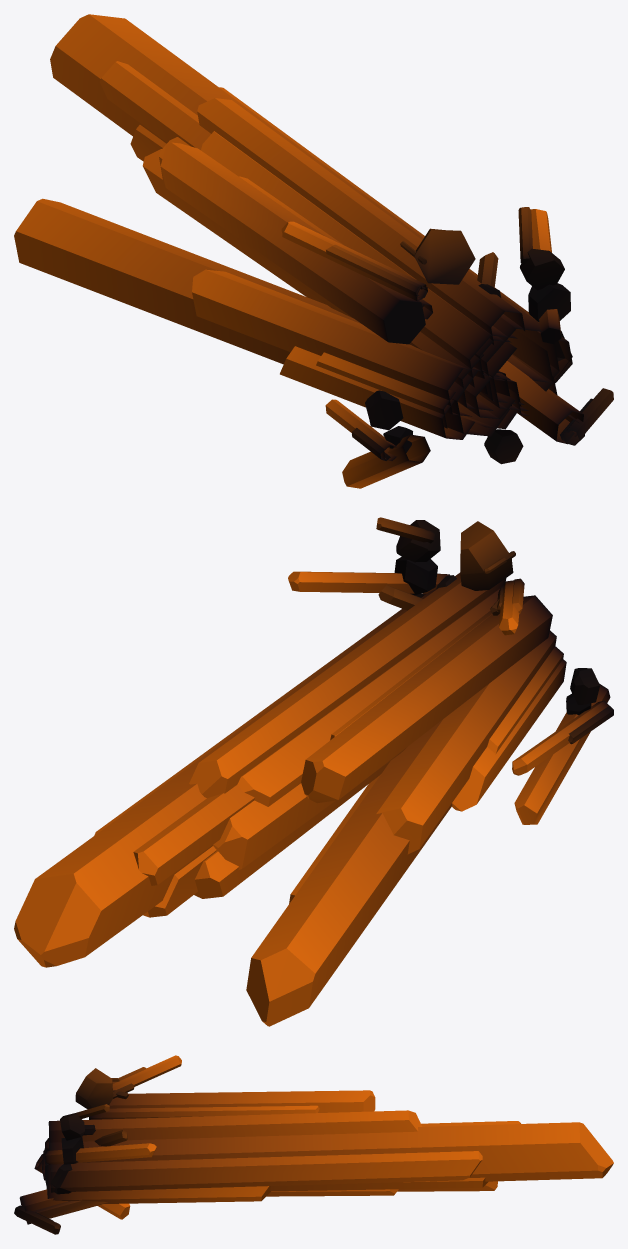
File: Crystal_03.FBX
3 views of the same model, one above another, from view 1: azimuth 30°, elevation 25°; view 2: azimuth 150°, elevation 25°; view 3: azimuth 270°, elevation 25° (orthographic). The views are drawn at different scales.
Parts seen in each view (by area): view 1: Crystal_03; view 2: Crystal_03; view 3: Crystal_03.
Boxes of the visible parts, x1=… form: Crystal_03: x1=14, y1=14, x2=613, y2=488; Crystal_03: x1=14, y1=517, x2=613, y2=1026; Crystal_03: x1=14, y1=1055, x2=613, y2=1234.
Bounding box in the file's own units: 92.9 × 82.72 × 269.
